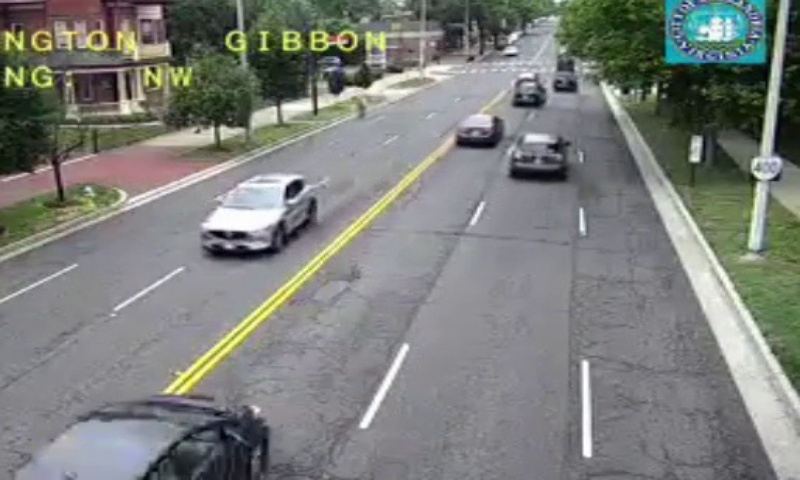car: (508, 133, 564, 174), (456, 113, 499, 145), (512, 83, 541, 106)
